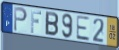2: (92, 18, 105, 44)
9: (61, 13, 74, 40)
B: (44, 11, 59, 38)
E: (75, 14, 91, 42)
F: (30, 9, 43, 34)
P: (14, 6, 29, 33)
